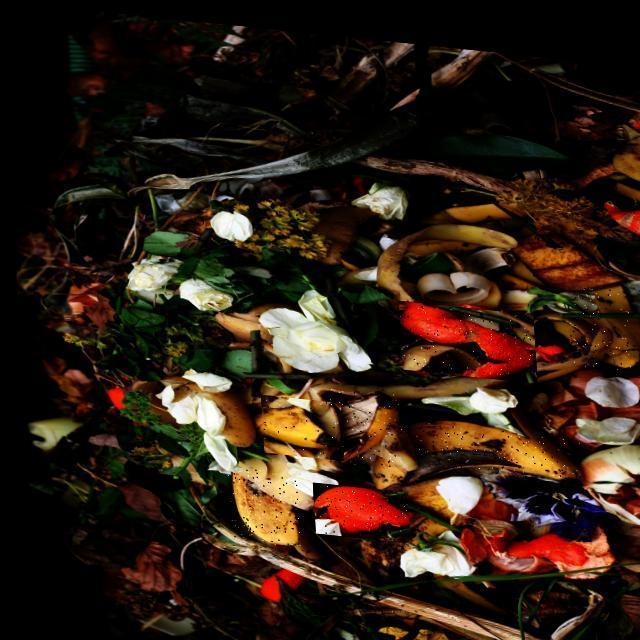cardboard: (15, 10, 638, 639)
